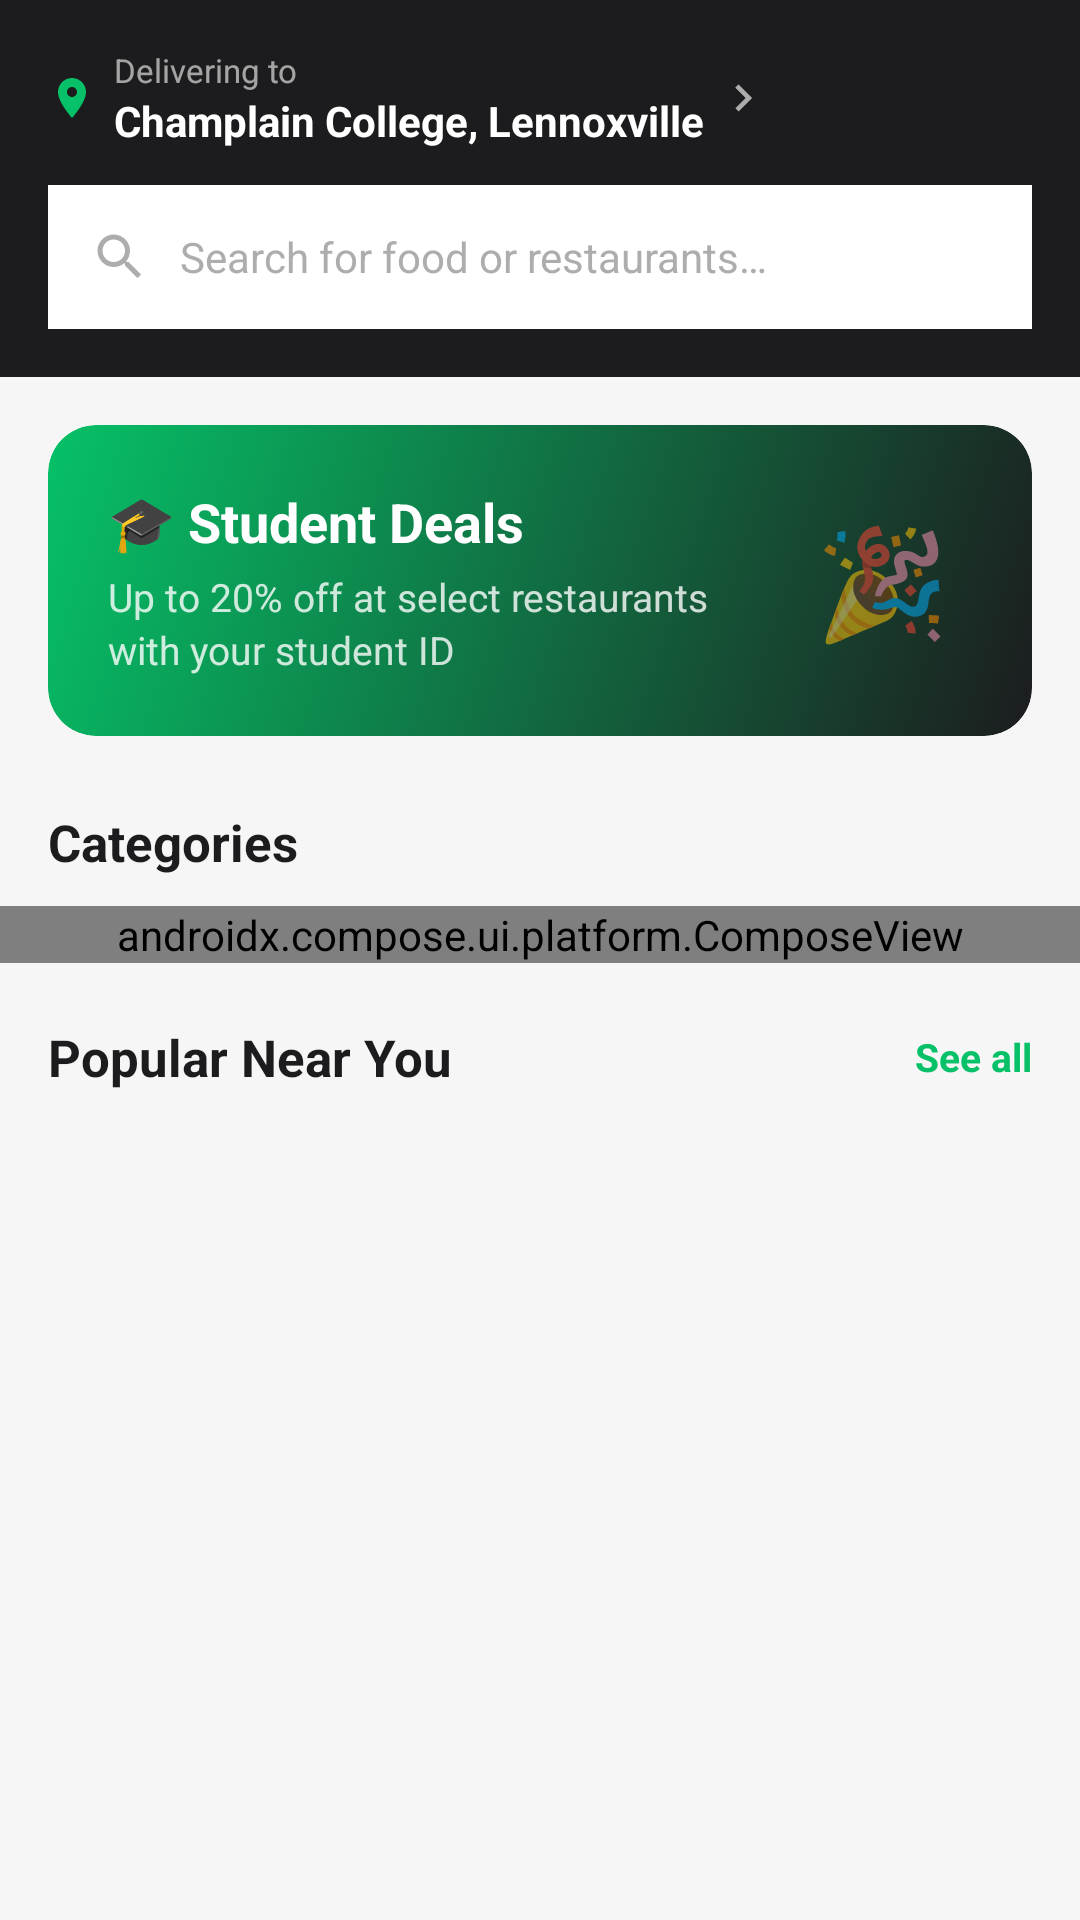

Locate icon controls on the screen. Image size 1080×1920, boxes as (x1=x1, y1=y1, x2=x2, y2=y2).
Change address: (x1=735, y1=84, x2=752, y2=112)
Location: (x1=58, y1=78, x2=86, y2=118)
